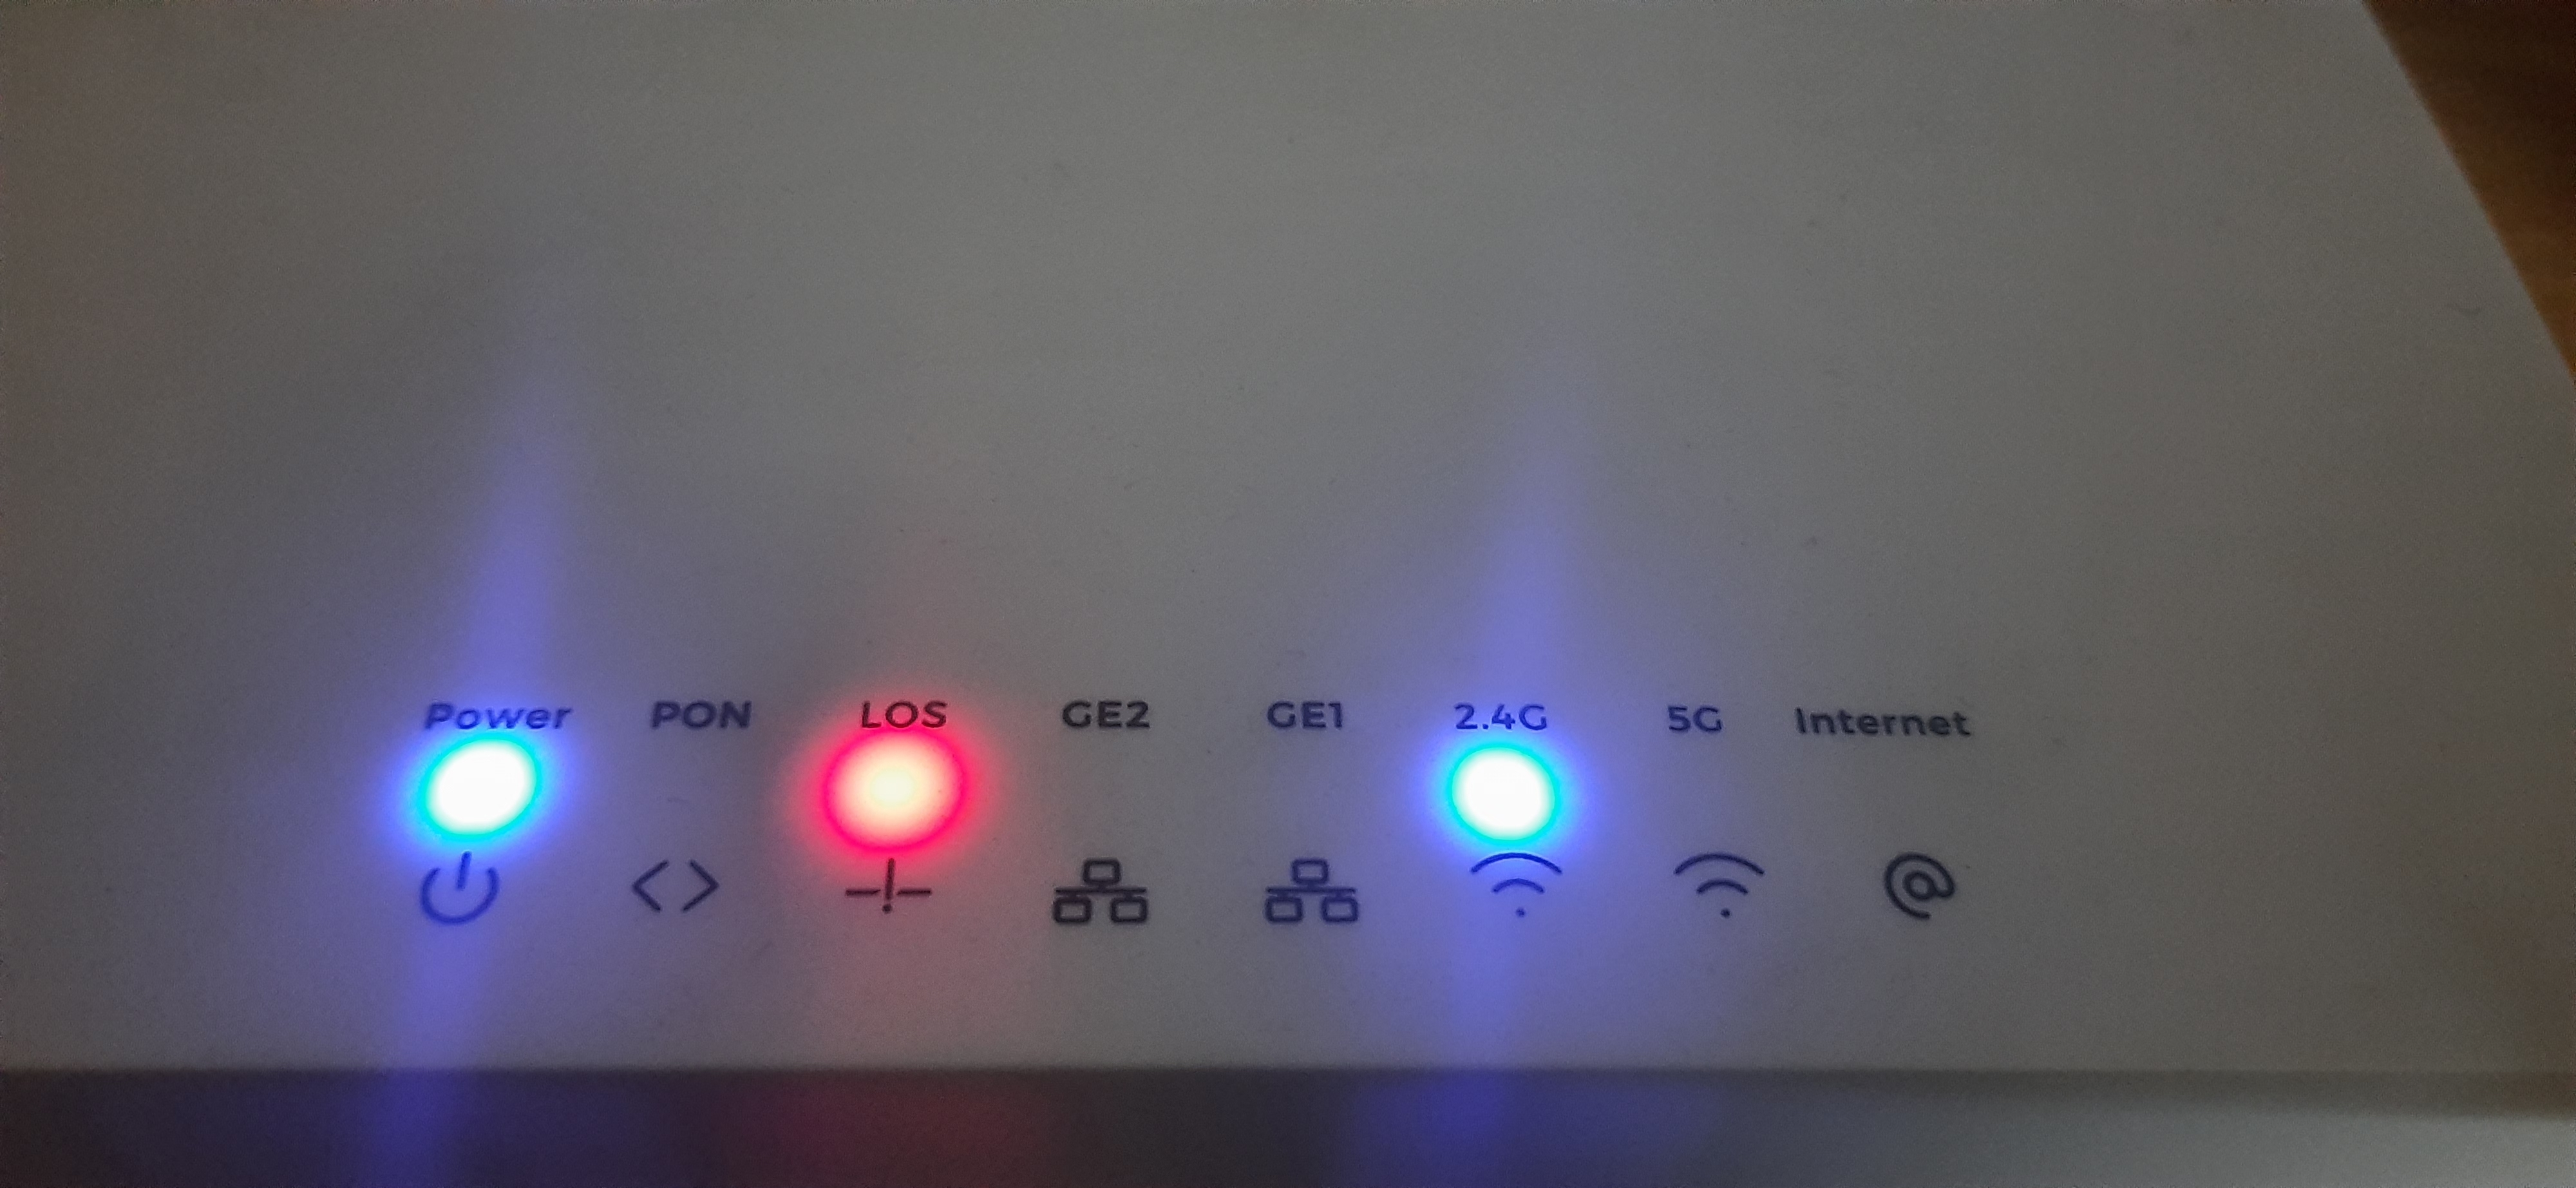LOSConnectionIssue: (780, 634, 1032, 945)
